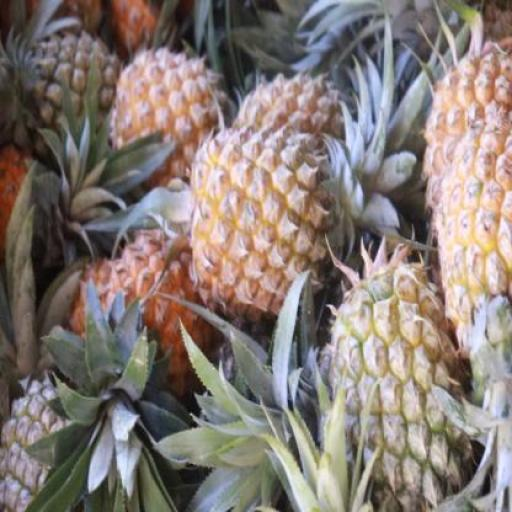------------------------------: (323, 249, 476, 509)
Pineapple - v8 v1: (193, 128, 333, 320), (103, 228, 212, 432), (426, 112, 512, 346), (110, 52, 228, 180)
